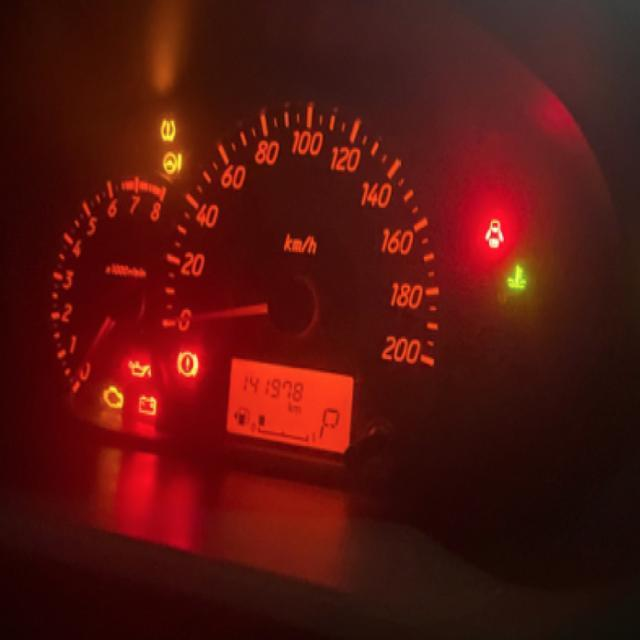Electronic Power Steering: (160, 148, 188, 179)
High Engine Coolant Temperature: (504, 257, 530, 295)
